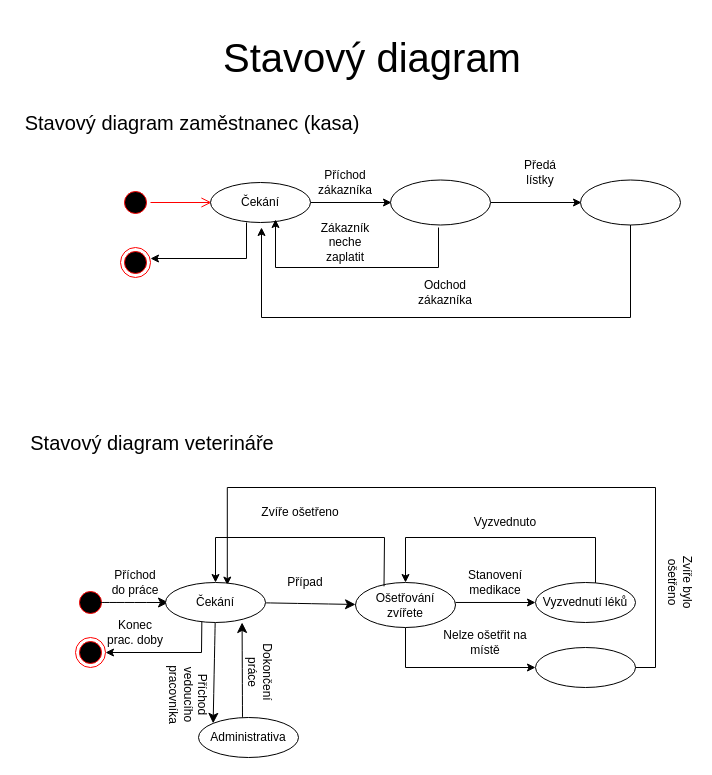
The diagram is 712 pixels wide and 775 high, and some of its shapes have lost their labels. Here are the shapes that lost their labels. From the top down, the centre of each, then its label:
the point at 440,202: Účtuje
the point at 630,202: Predává lístky
the point at 585,667: Převážení zvířete
